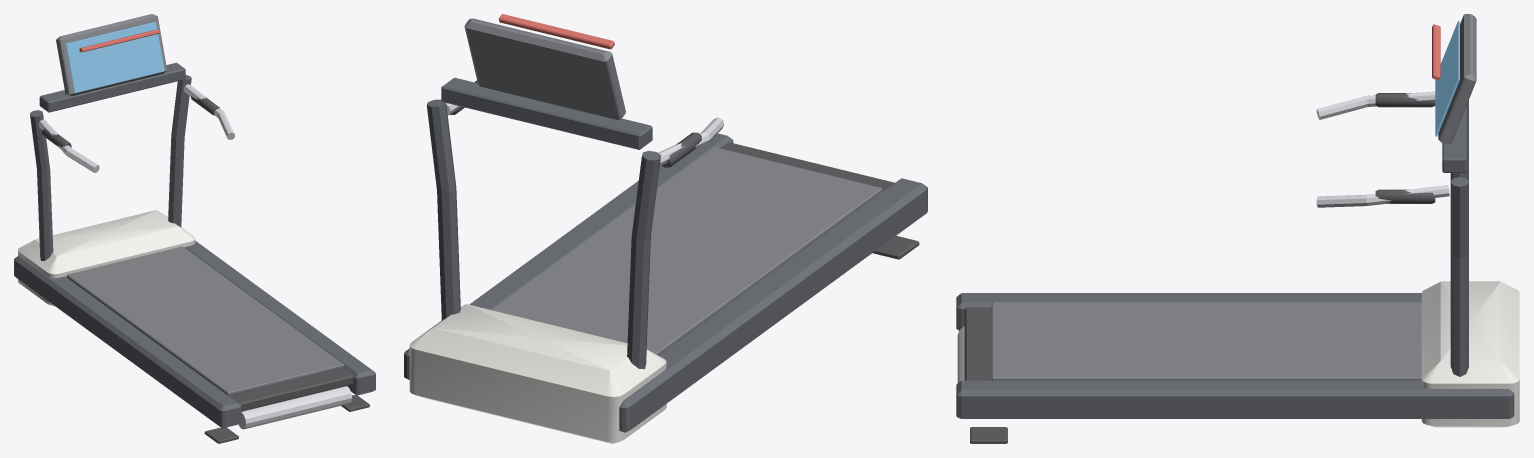
File: treadmill.glb
3 views of the same model, side by side, from view 1: azimuth 30°, elevation 25°; view 2: azimuth 150°, elevation 25°; view 3: azimuth 270°, elevation 25° (orthographic). The views are drawn at different scales.
Visible parts, largest first — view 1: treadmill, console/screen, console/dark, console/accent; view 2: treadmill, console/dark, console/accent; view 3: treadmill, console/dark, console/screen.
Part boxes in pixels (<box>): treadmill: <box>14,62,375,443</box>; console/screen: <box>66,22,164,93</box>; console/dark: <box>56,14,167,96</box>; console/accent: <box>79,29,159,52</box>; treadmill: <box>404,77,927,443</box>; console/dark: <box>464,18,625,119</box>; console/accent: <box>498,14,614,49</box>; treadmill: <box>956,91,1519,443</box>; console/dark: <box>1438,14,1476,144</box>; console/screen: <box>1435,21,1459,136</box>.
Bounding box in the file's own units: 0.9075 × 1.42 × 2.07.
